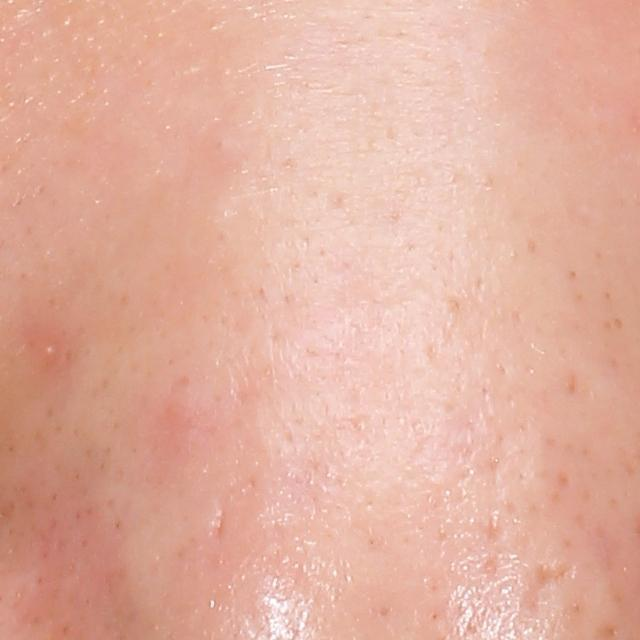atrophic_scar: (208, 474, 257, 552), (521, 555, 579, 618)
